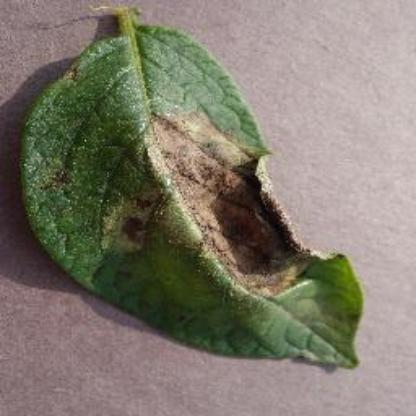Late-Blight: (18, 6, 370, 370)
